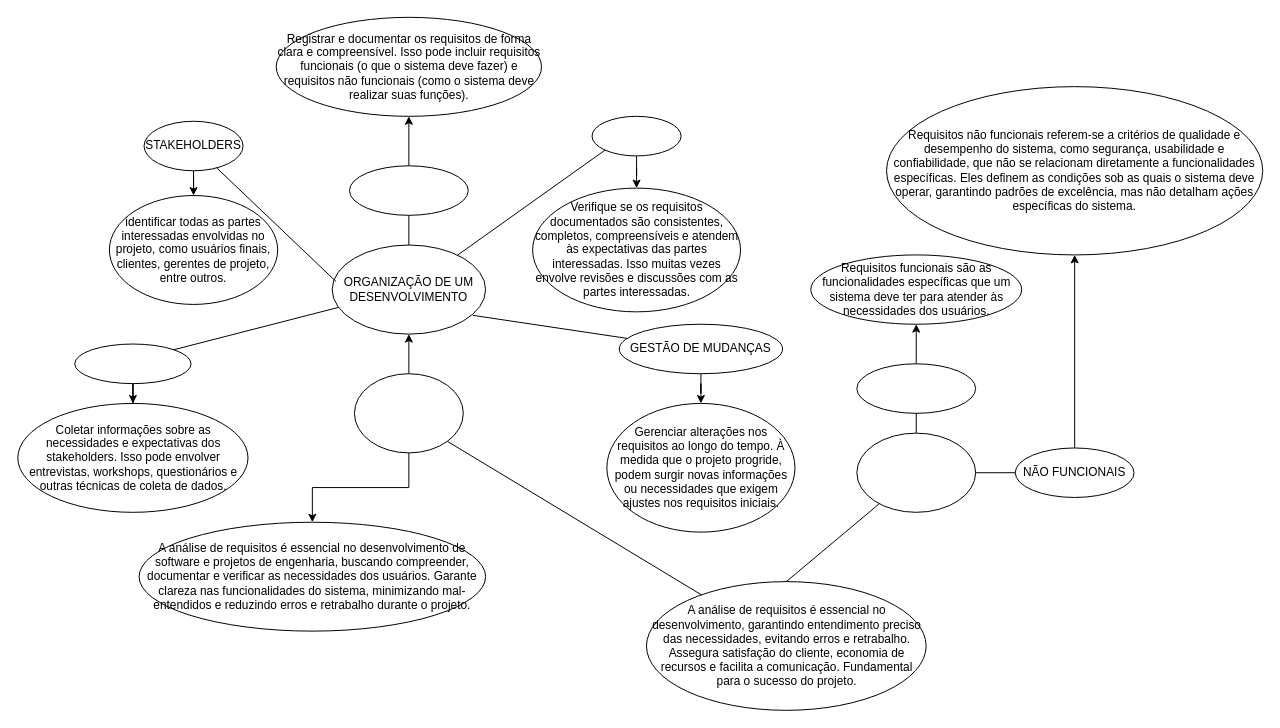
Image size: 1280x728. Some labels were removed from this diagram. Each missing label, with the box of its shape:
ANÁLISE DE REQUISITOS: (353, 373, 463, 453)
DOCUMENTAÇÃO: (348, 165, 468, 215)
FUNCIONAIS: (856, 363, 976, 413)
LEVANTAMENTO: (74, 343, 191, 384)
REQUISITOS: (856, 432, 976, 512)
VALIDAÇÃO: (591, 115, 681, 156)
